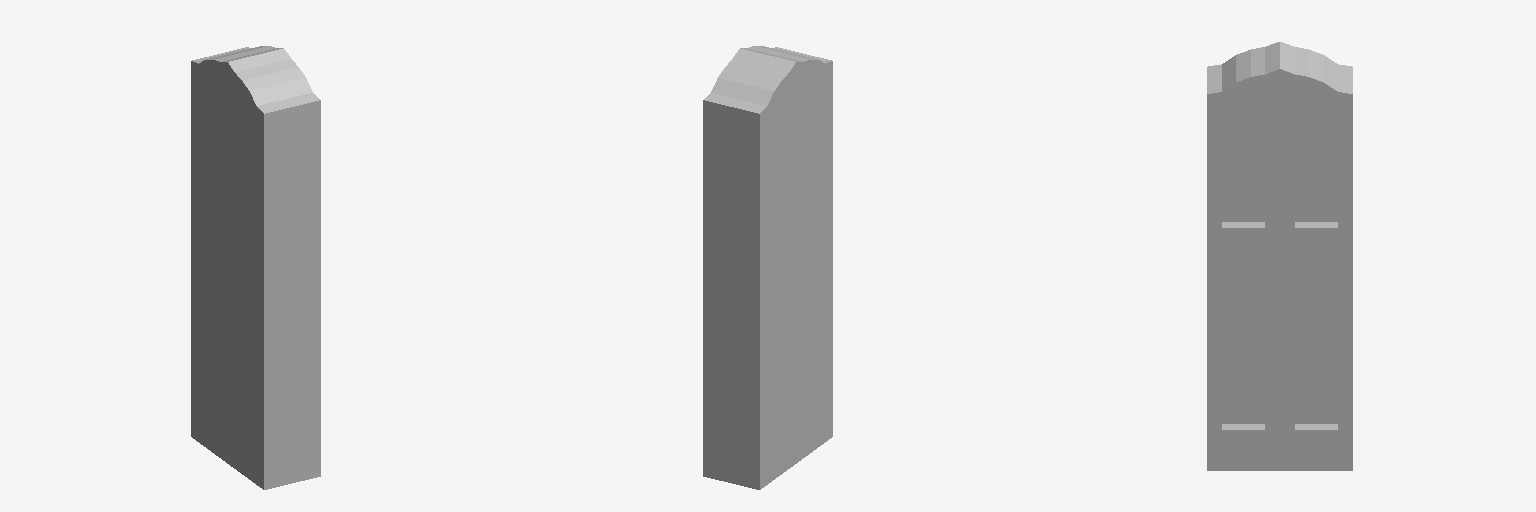
The model's file is window1.obj.
3 views of the same model, side by side, from view 1: azimuth 30°, elevation 25°; view 2: azimuth 150°, elevation 25°; view 3: azimuth 270°, elevation 25° (orthographic).
Parts seen in each view (by area): view 1: pCube1; view 2: pCube1; view 3: pCube1.
Boxes of the visible parts, box(x1,y1,x2,y2) form: pCube1: box(191, 46, 320, 489); pCube1: box(703, 46, 832, 489); pCube1: box(1207, 42, 1352, 470).
Bounding box in the file's own units: 0.1324 × 0.8987 × 0.2949.